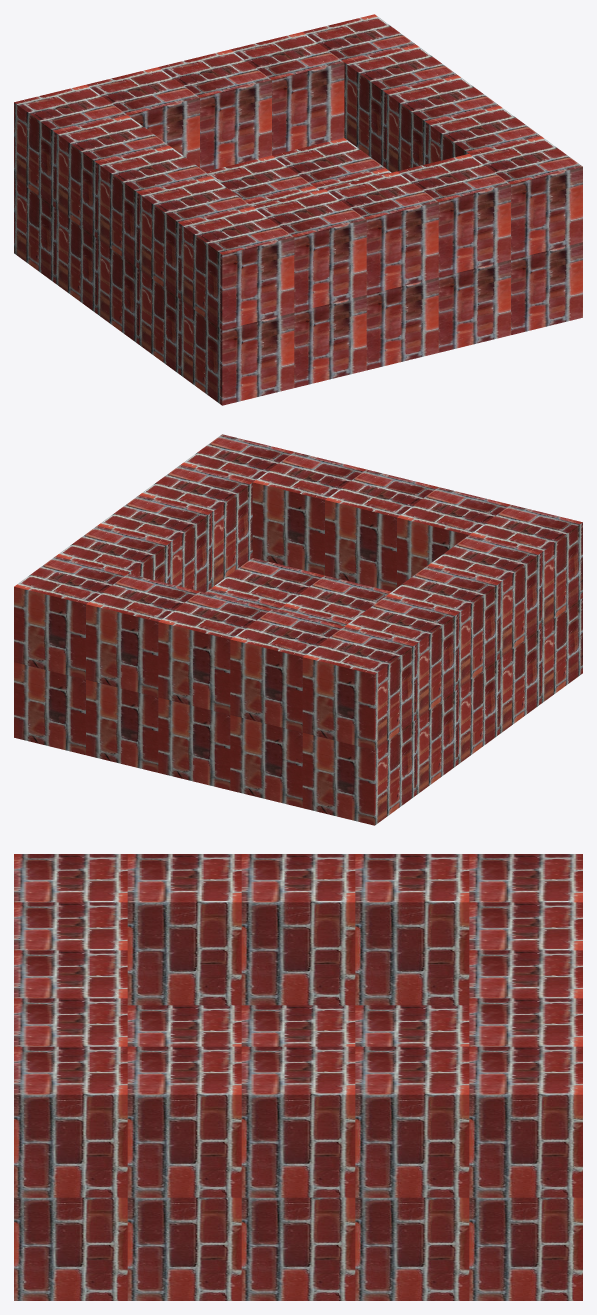
Rendered from Marco.fbx.
The picture shows the model from 3 angles, top to bottom: view 1: azimuth 30°, elevation 25°; view 2: azimuth 150°, elevation 25°; view 3: azimuth 270°, elevation 25°; orthographic projection. The views are drawn at different scales.
Visible parts, largest first — view 1: Marco; view 2: Marco; view 3: Marco.
Part boxes in pixels (bbox=[...]): Marco: bbox=[14, 14, 582, 405]; Marco: bbox=[14, 434, 582, 825]; Marco: bbox=[14, 854, 582, 1300].
Bounding box in the file's own units: 100 × 40 × 100.
